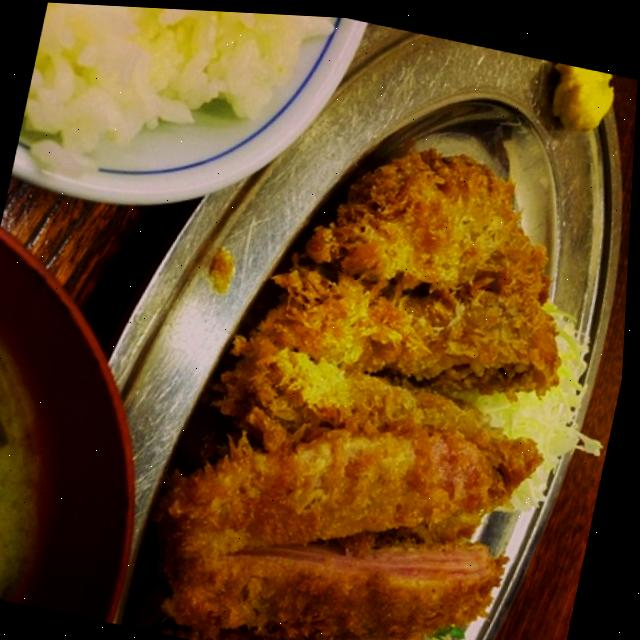炸货点心: (122, 86, 620, 640)
